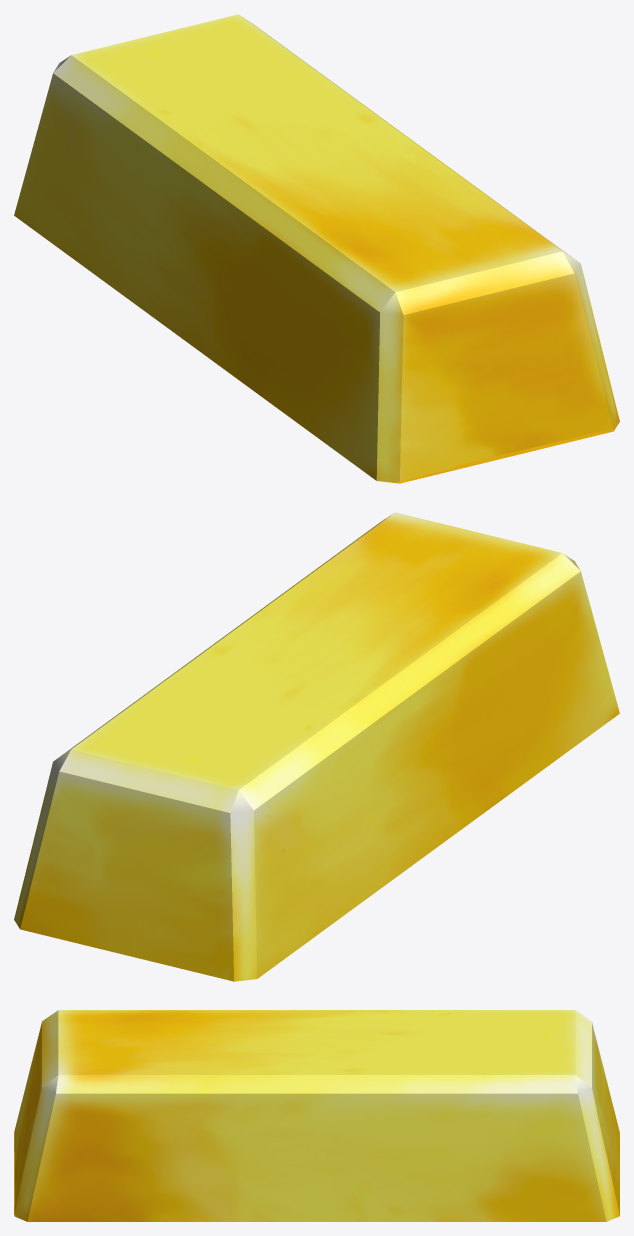
The model's file is gold_01.fbx.
3 views of the same model, one above another, from view 1: azimuth 30°, elevation 25°; view 2: azimuth 150°, elevation 25°; view 3: azimuth 270°, elevation 25° (orthographic). The views are drawn at different scales.
Visible parts, largest first — view 1: gold; view 2: gold; view 3: gold.
Boxes of the visible parts, bbox=[...] form: gold: bbox=[14, 14, 619, 483]; gold: bbox=[14, 512, 619, 981]; gold: bbox=[14, 1010, 619, 1221].
Size of the model in its own units: 7.6 by 4.94 by 20.54.
